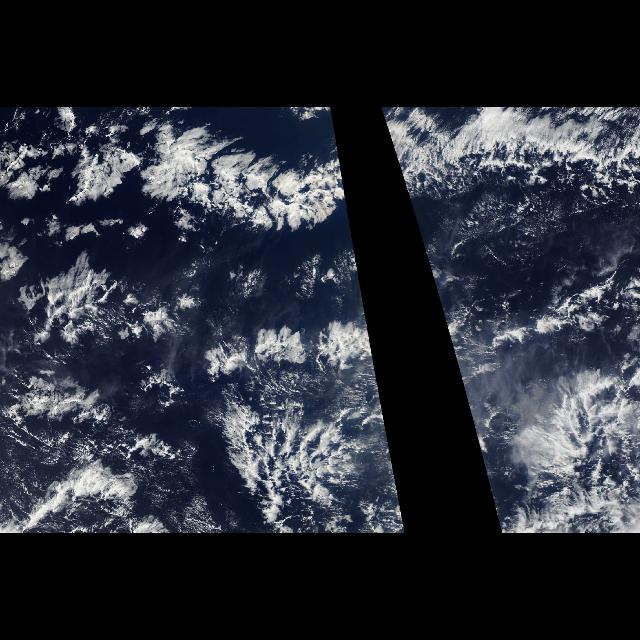Fish: (120, 115, 352, 278)
